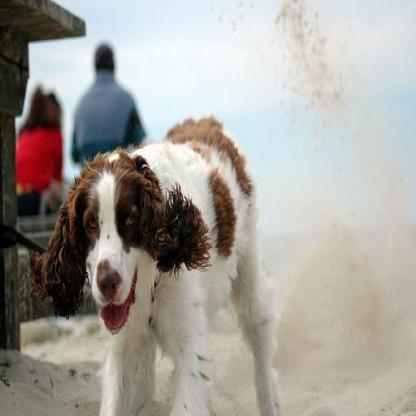English_springer: (21, 109, 284, 414)
